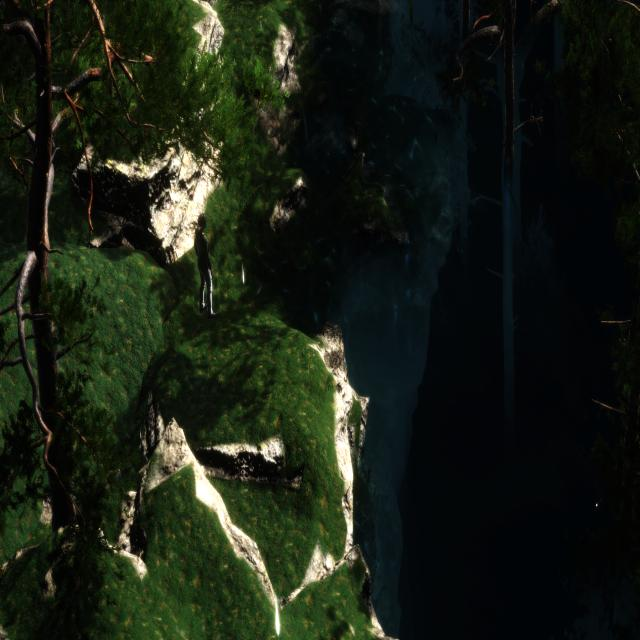Human: (192, 209, 218, 321)
